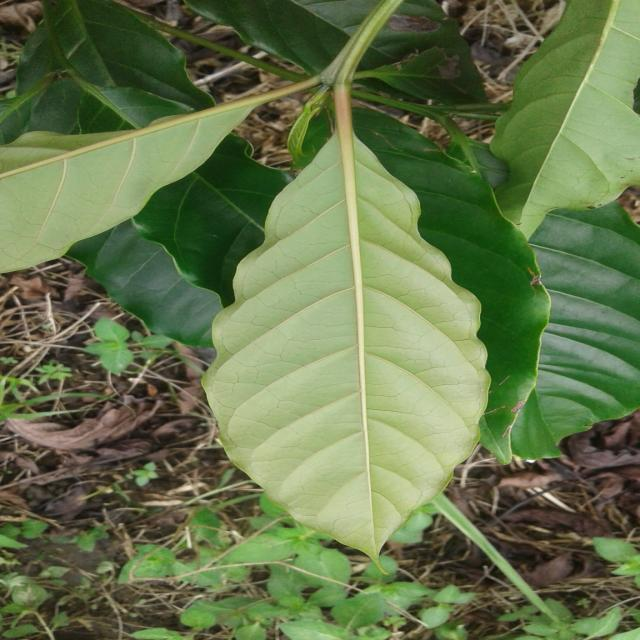Sanas: (203, 140, 488, 560)
